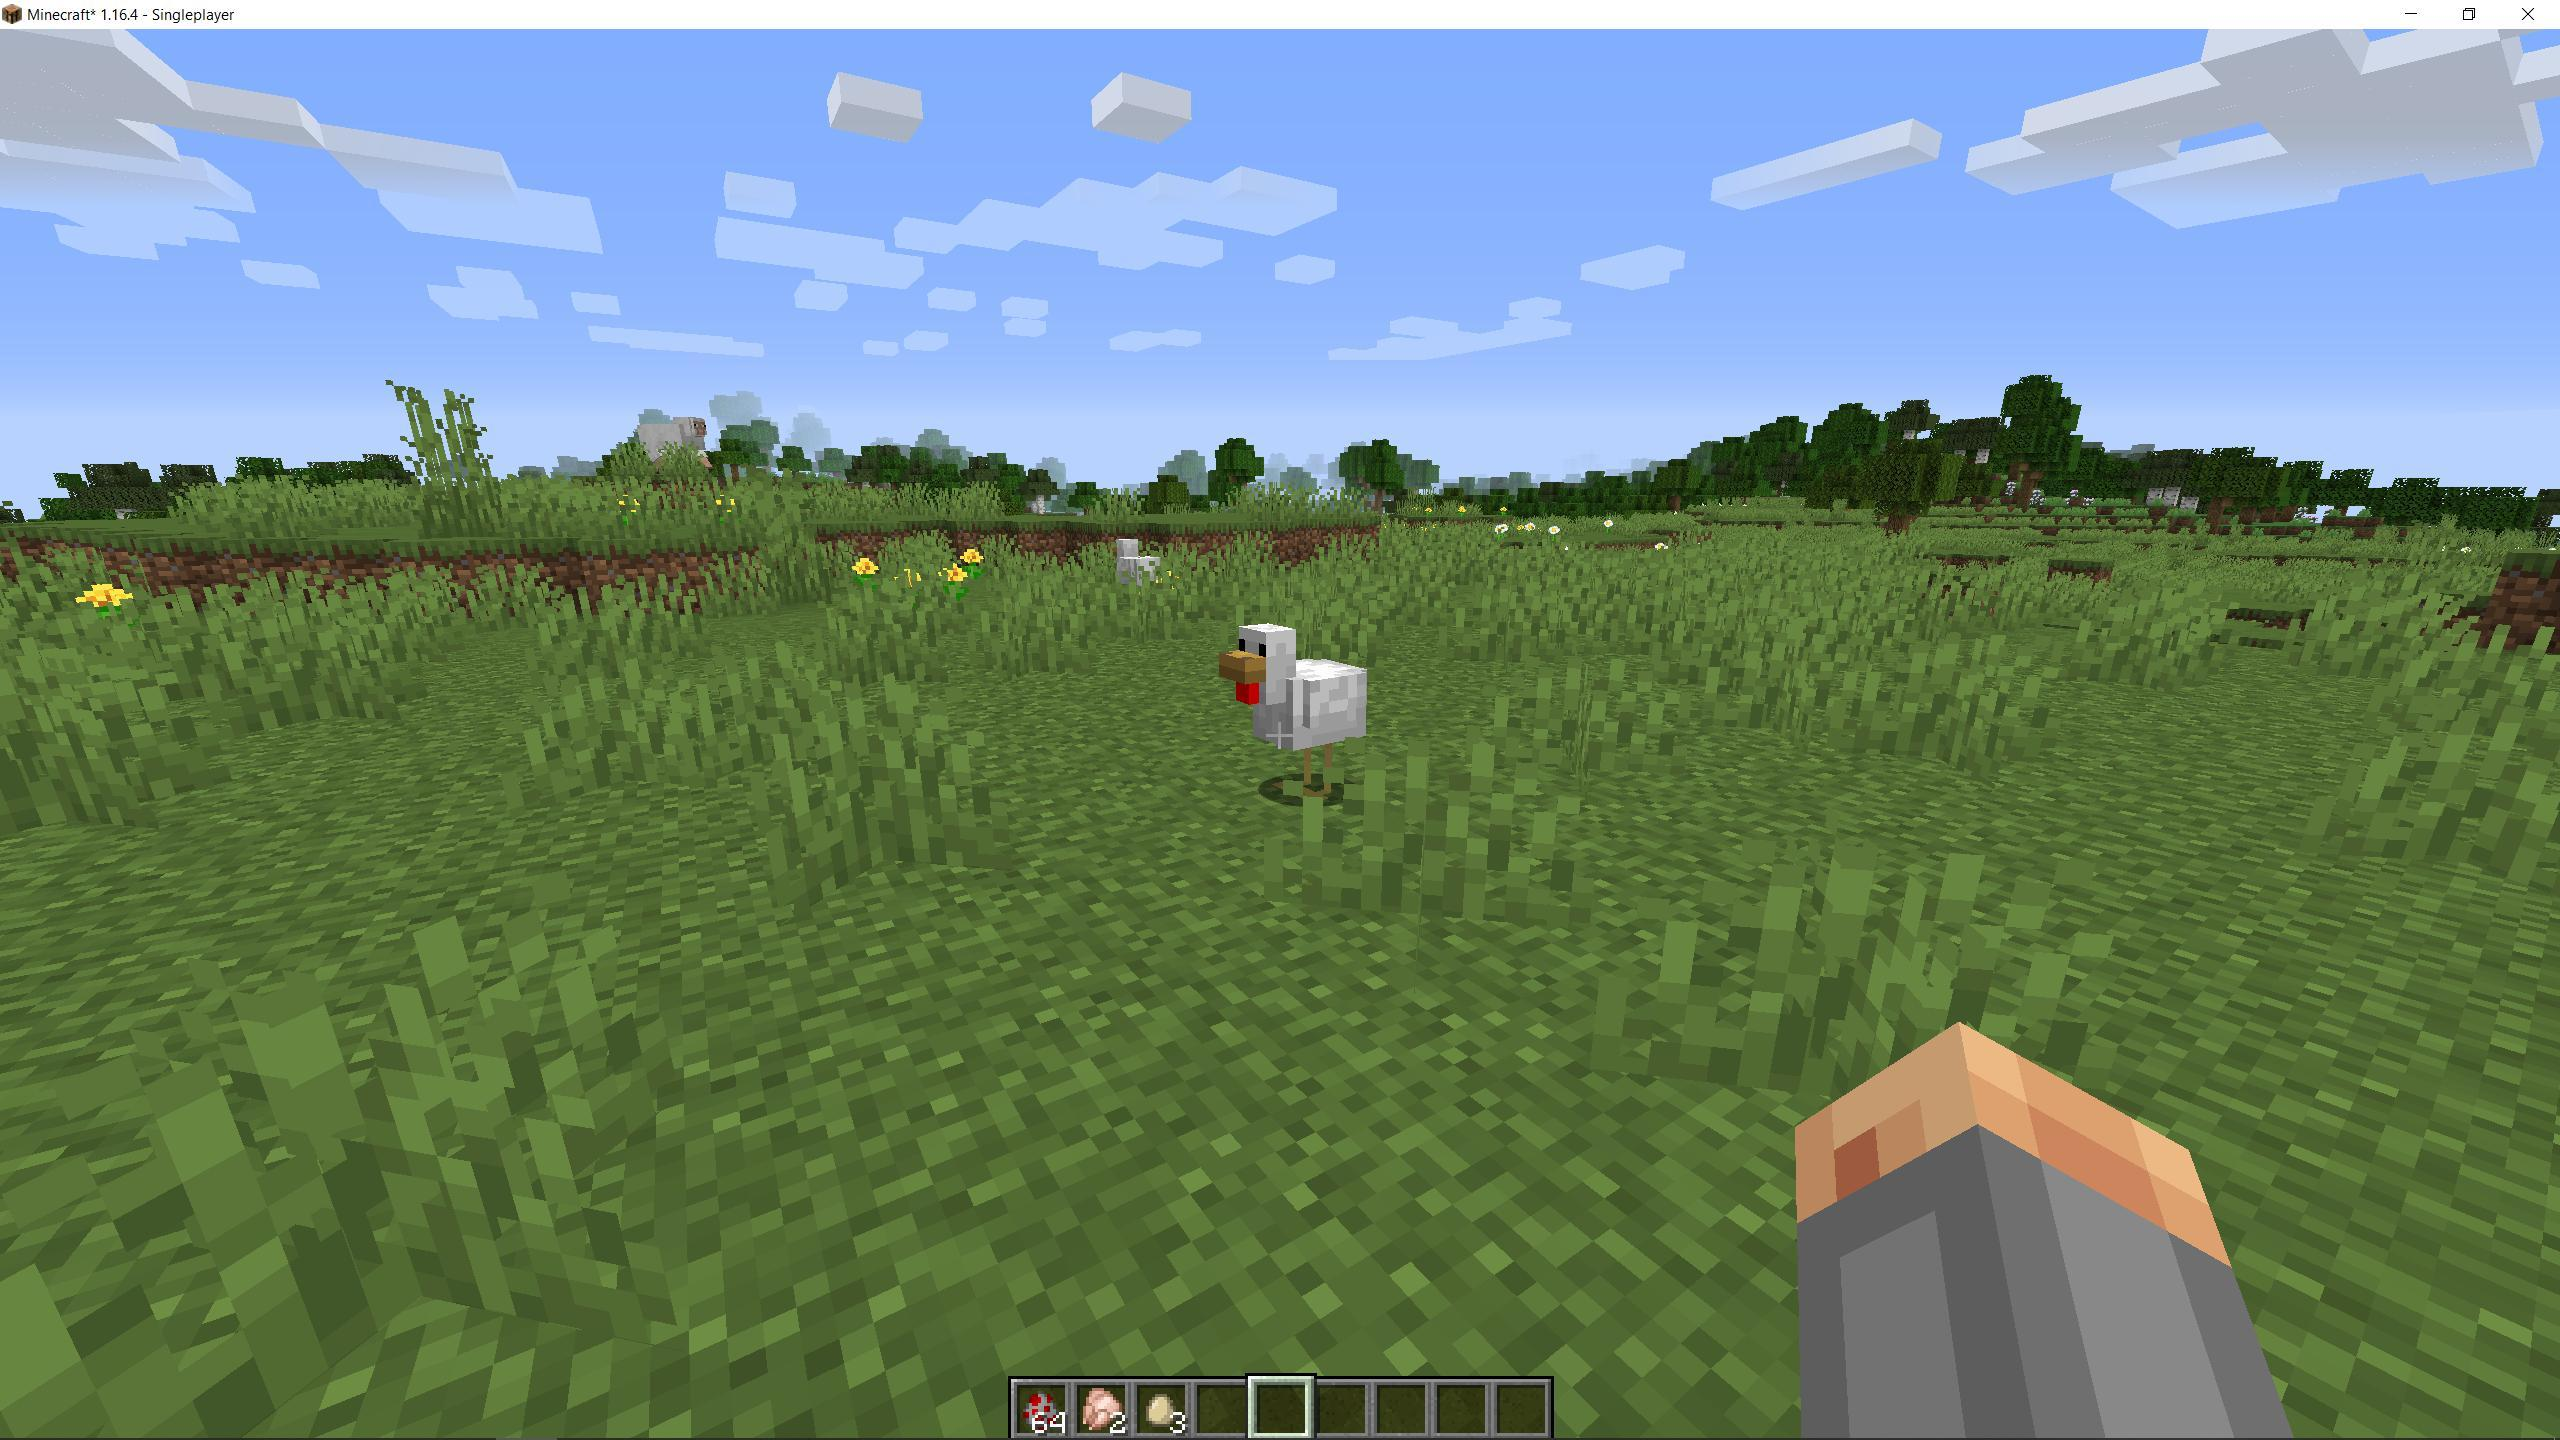chicken: (1213, 617, 1385, 812), (1101, 536, 1173, 622)
